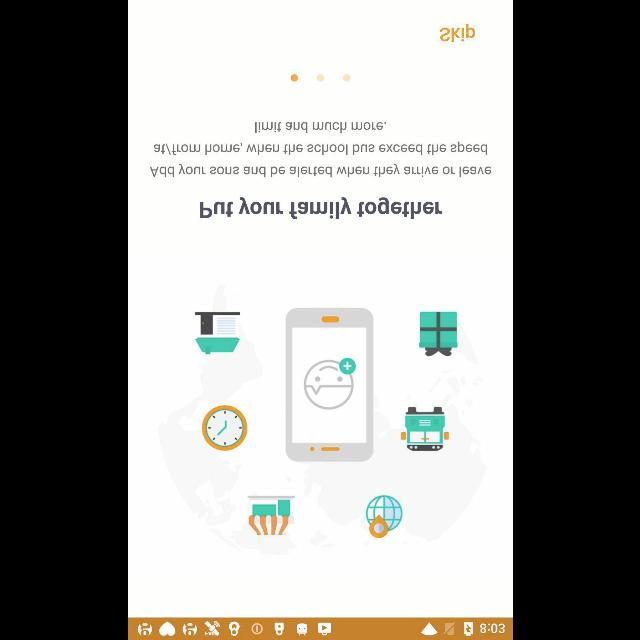image: (157, 284, 488, 556)
pageindicator: (290, 74, 350, 82)
text: (149, 122, 491, 178), (198, 197, 442, 220), (439, 23, 475, 42)
uppertaskbar: (128, 617, 512, 639)
